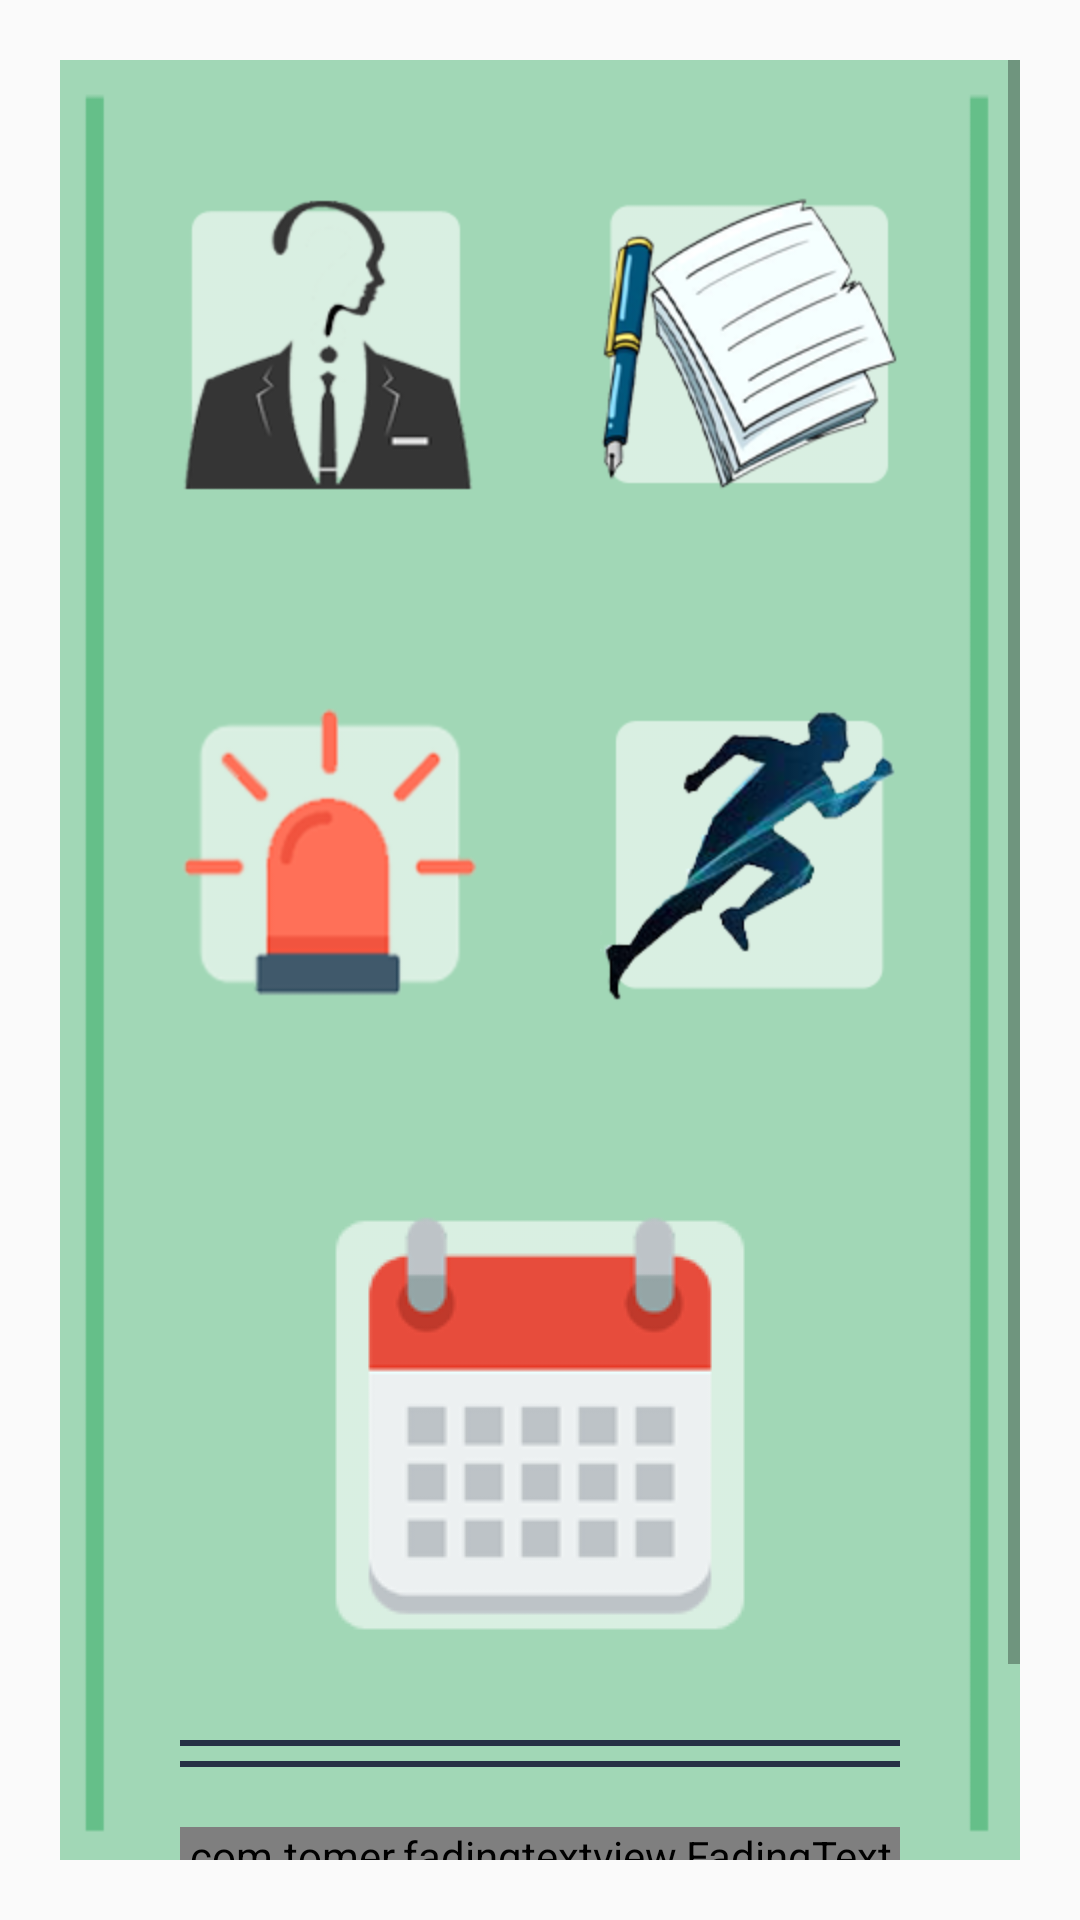

Locate icon controls on the screen. Image size 1080 × 1920, boxes as (x1, y1, x2, y2).
alarmwarn: (184, 709, 476, 995)
motiva: (605, 712, 894, 1000)
paperpen: (602, 199, 897, 488)
